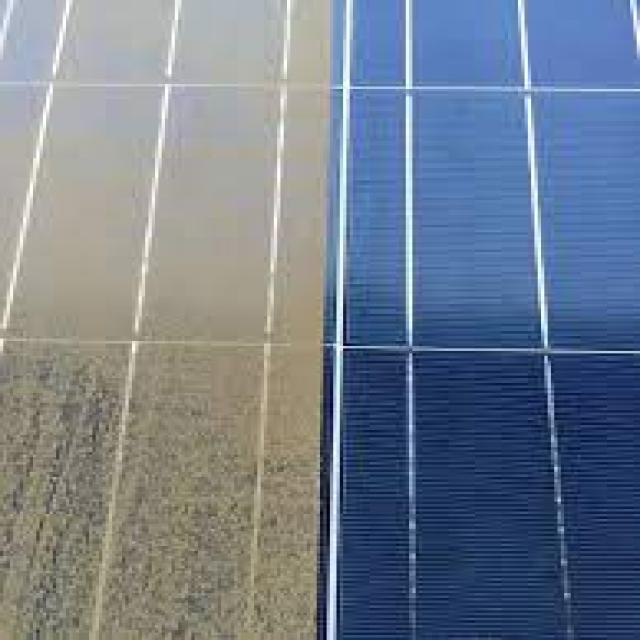faulty: (20, 0, 330, 640)
no faulty: (343, 0, 640, 640)
